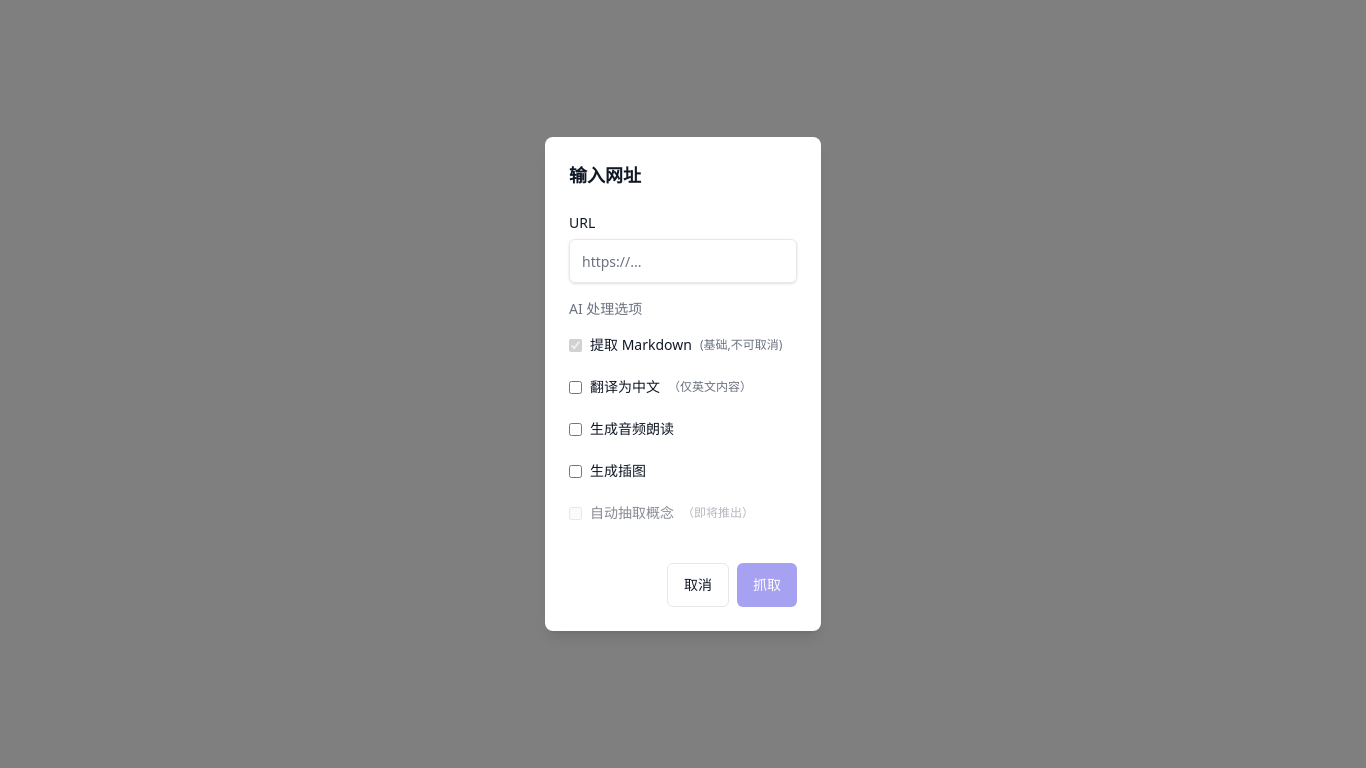
UrlIngestDialog › shows loading state while fetching and disables button
Step 1. Type "https://example.com" into the field with placeholder "https://..." → (683, 261), box [569,239,797,283]
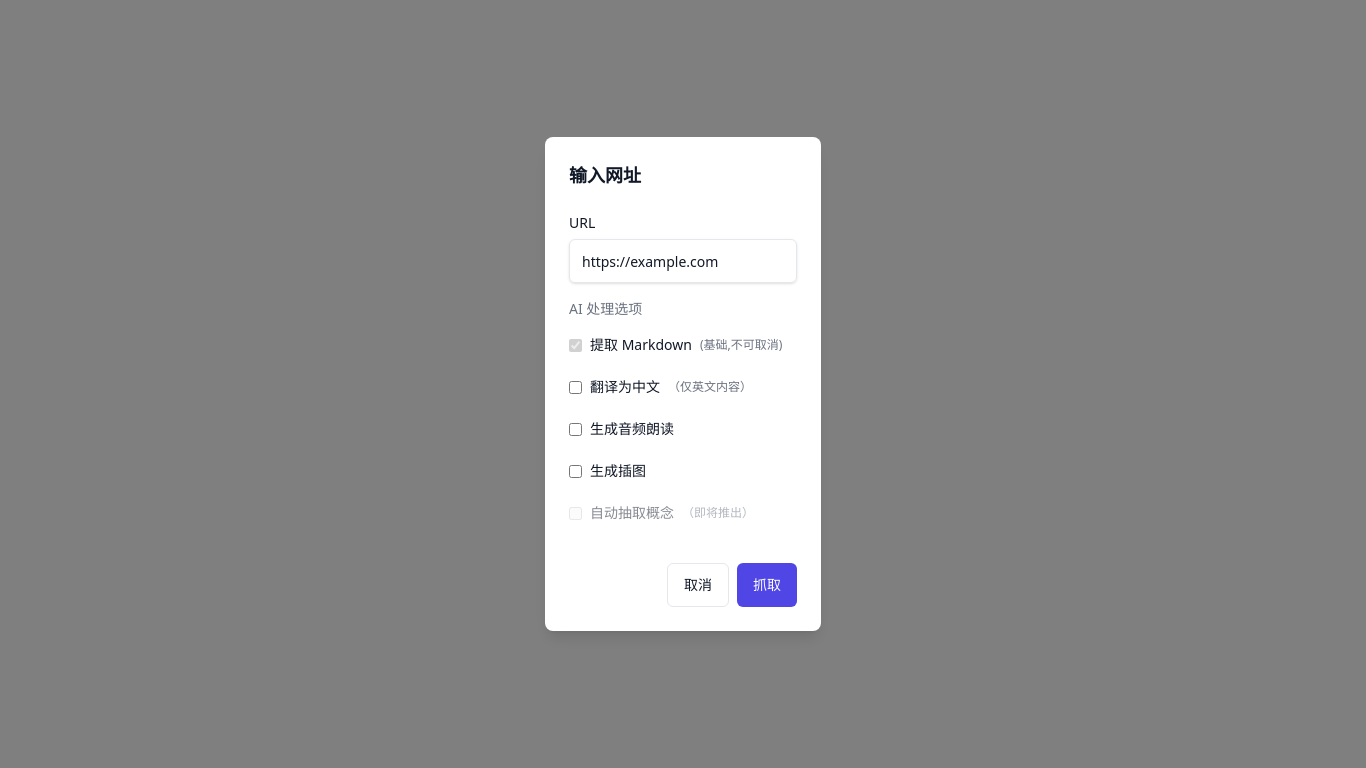
Step 2. Click the button "抓取" → (767, 585), box [737,563,797,607]
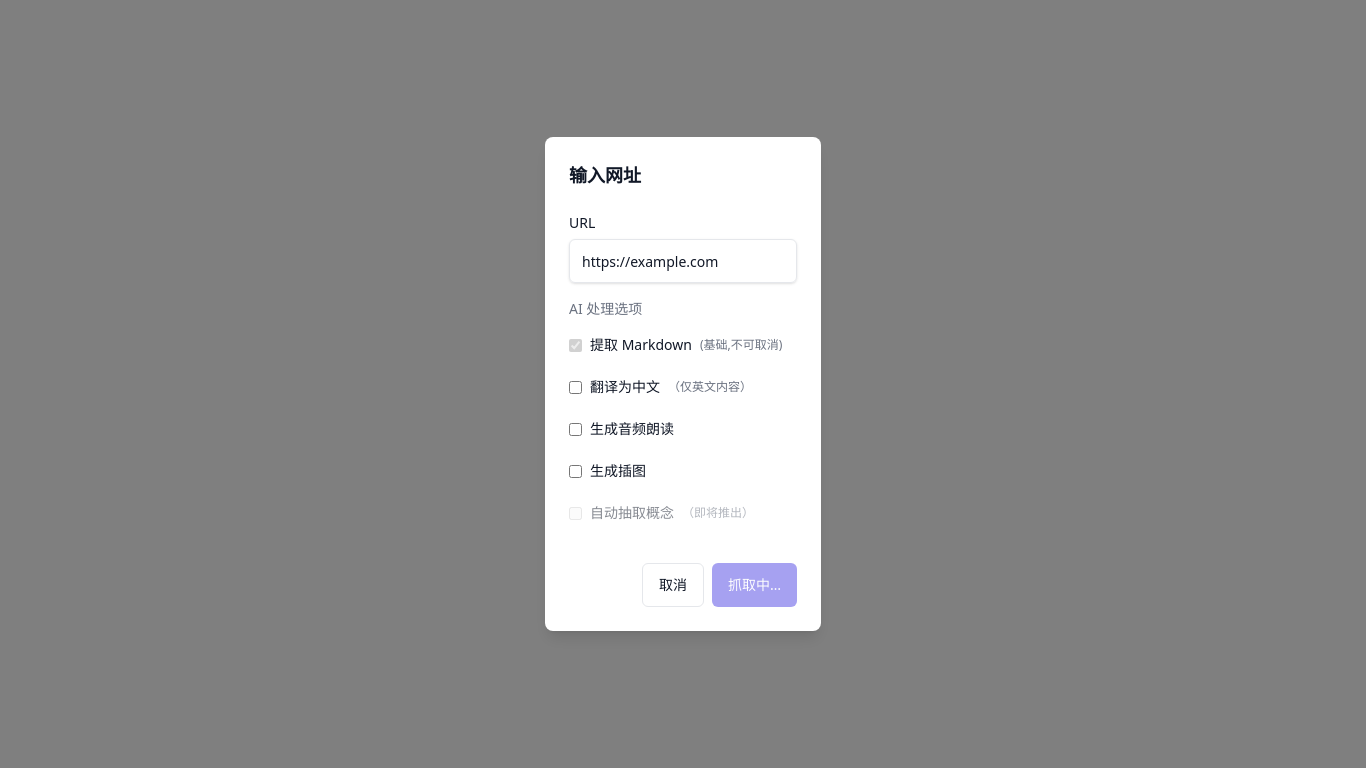
Expected: the button "抓取中…" is disabled, [712,563,797,607]
